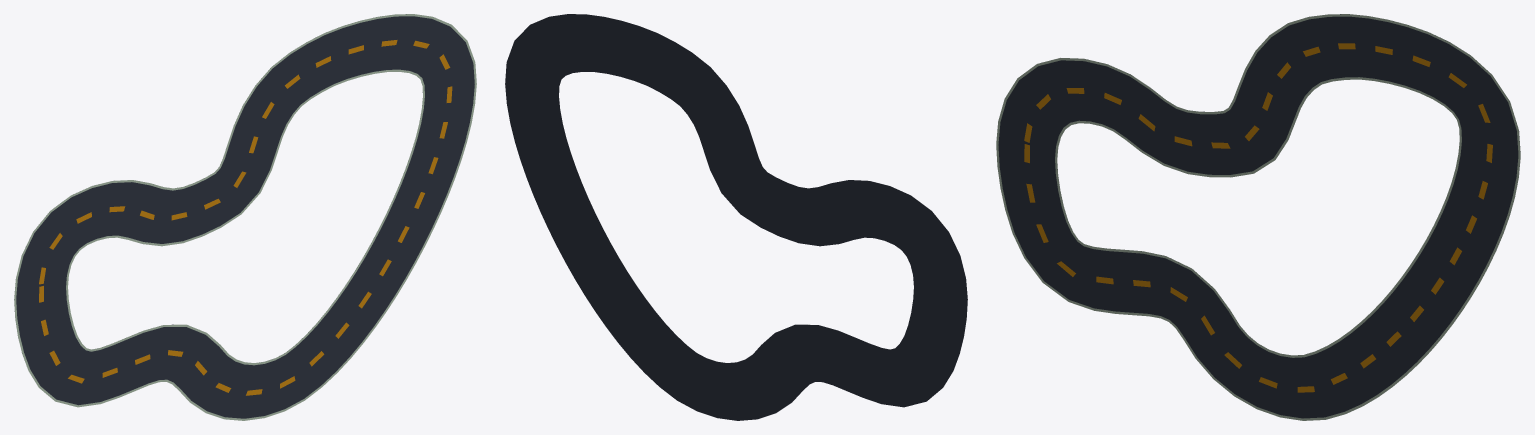
File: track.obj
The picture shows the model from 3 angles, left to right: view 1: azimuth 30°, elevation 25°; view 2: azimuth 150°, elevation 25°; view 3: azimuth 330°, elevation 25°; orthographic projection. The views are drawn at different scales.
Bounding box in the file's own units: 9.1 × 7.03 × 0.002.
